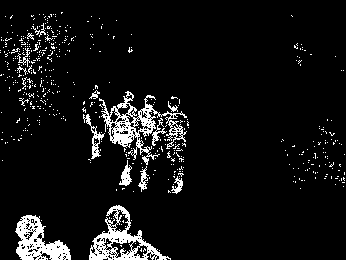person: (86, 205, 177, 260), (106, 89, 142, 190), (158, 95, 190, 194), (135, 93, 162, 191), (82, 82, 111, 160)
